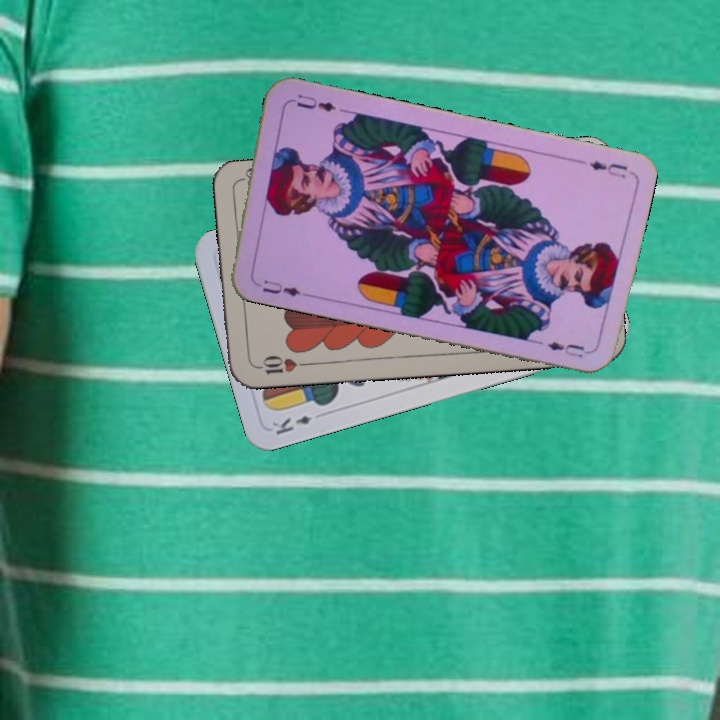EK: (268, 411, 314, 438)
EU: (249, 275, 304, 299), (585, 157, 630, 181)
H10: (251, 351, 310, 377)
